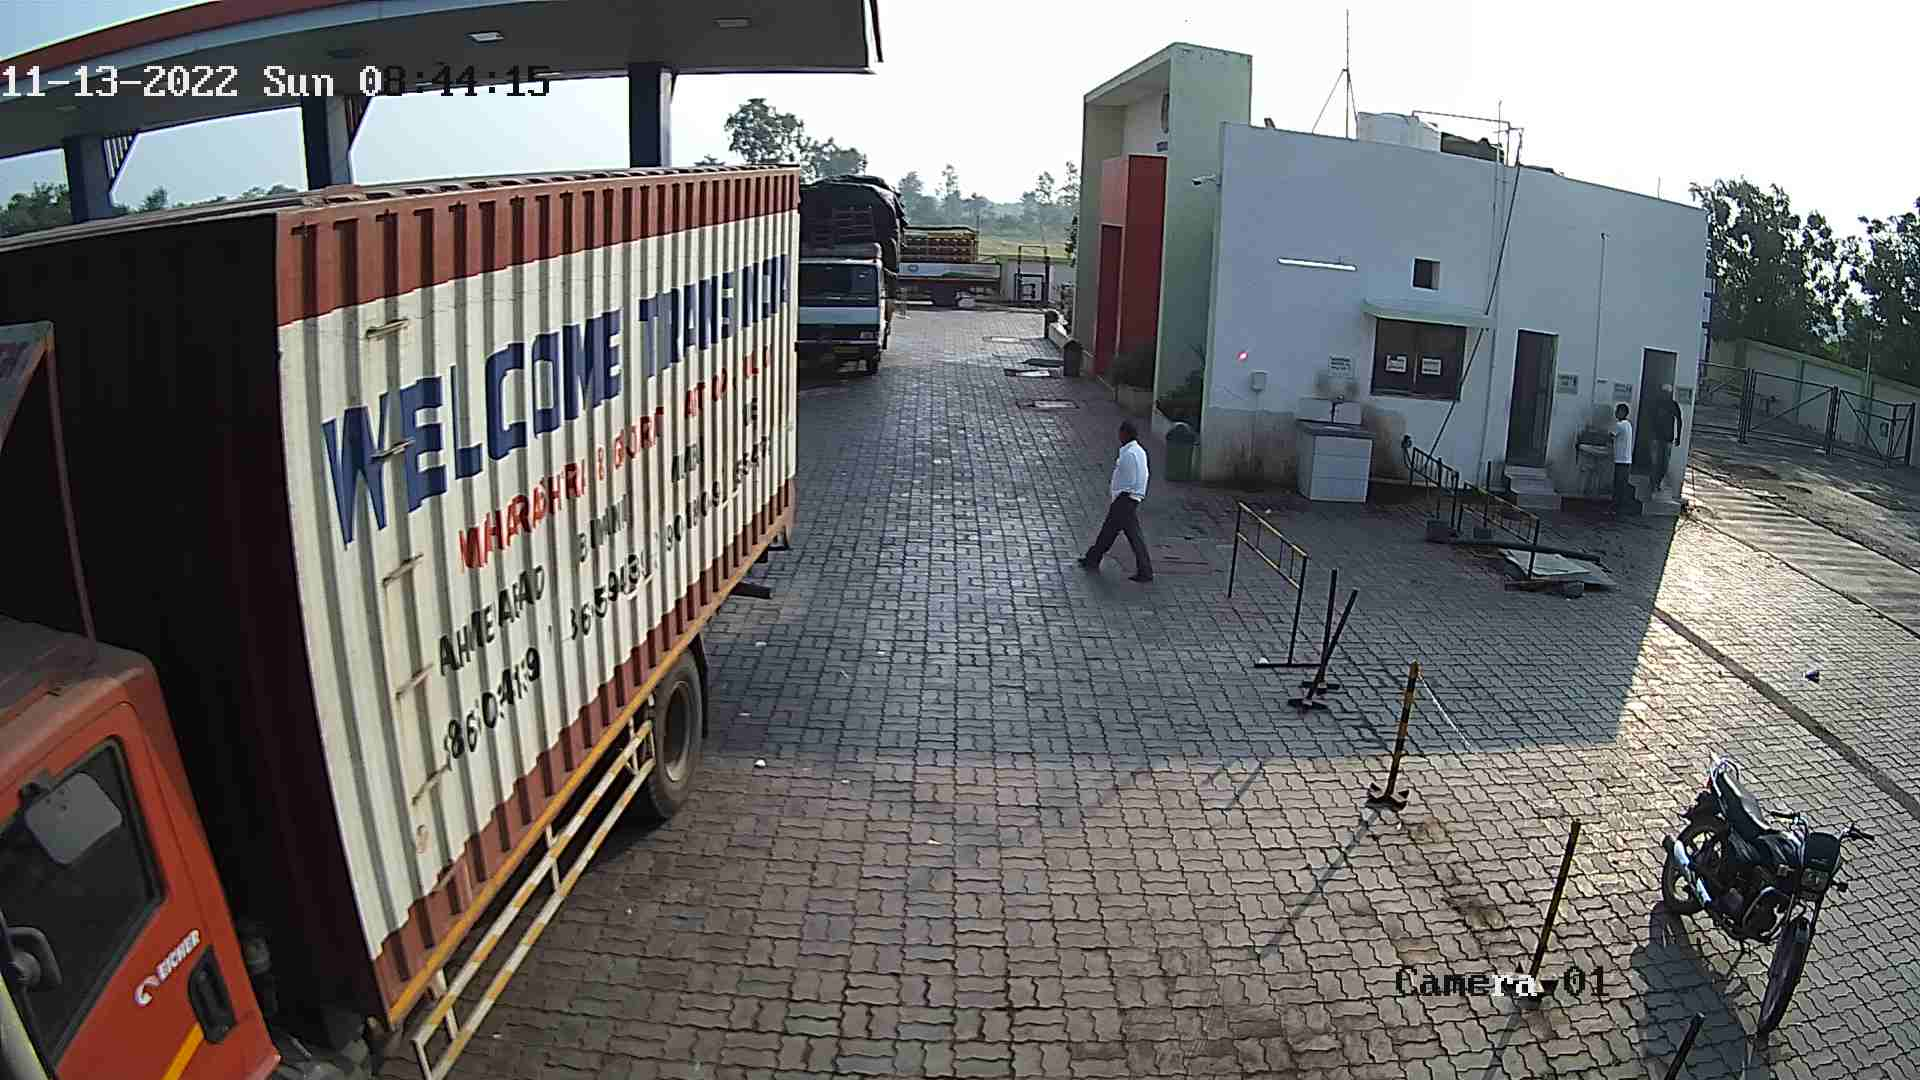Bike: (1646, 753, 1883, 1040)
HMV: (1, 153, 812, 1077), (786, 164, 909, 389), (893, 214, 1010, 306)
